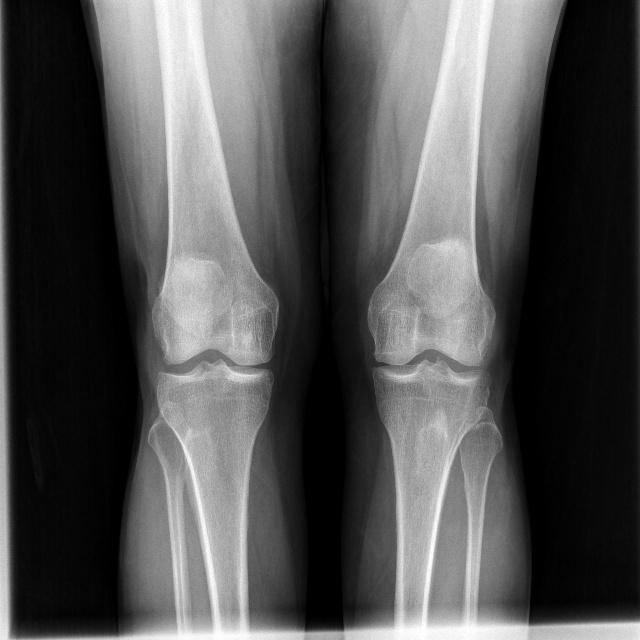Knee: (145, 294, 280, 413), (363, 299, 499, 413)
